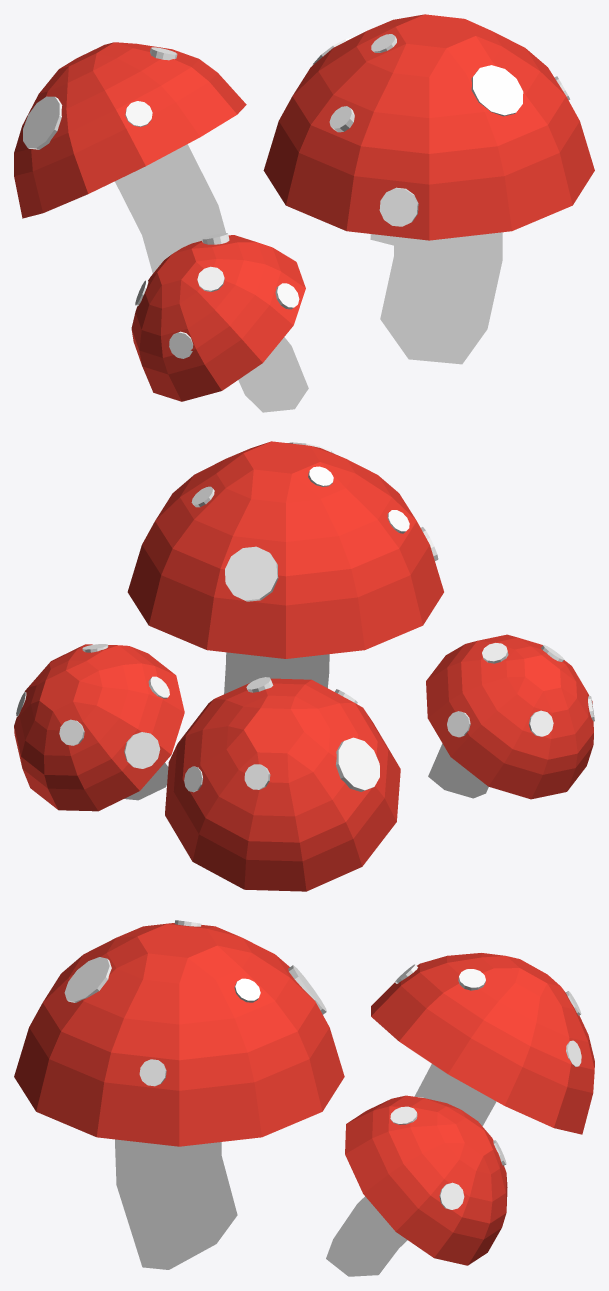
The model's file is Mushrooms (1).glb.
The picture shows the model from 3 angles, top to bottom: view 1: azimuth 30°, elevation 25°; view 2: azimuth 150°, elevation 25°; view 3: azimuth 270°, elevation 25°; orthographic projection. The views are drawn at different scales.
Parts seen in each view (by area): view 1: Node; view 2: Node; view 3: Node.
Boxes of the visible parts, left/top/right/bottom form: Node: left=14, top=14, right=594, bottom=412; Node: left=14, top=441, right=594, bottom=891; Node: left=14, top=920, right=594, bottom=1276.
Bounding box in the file's own units: 0.1904 × 0.1307 × 0.2126.
